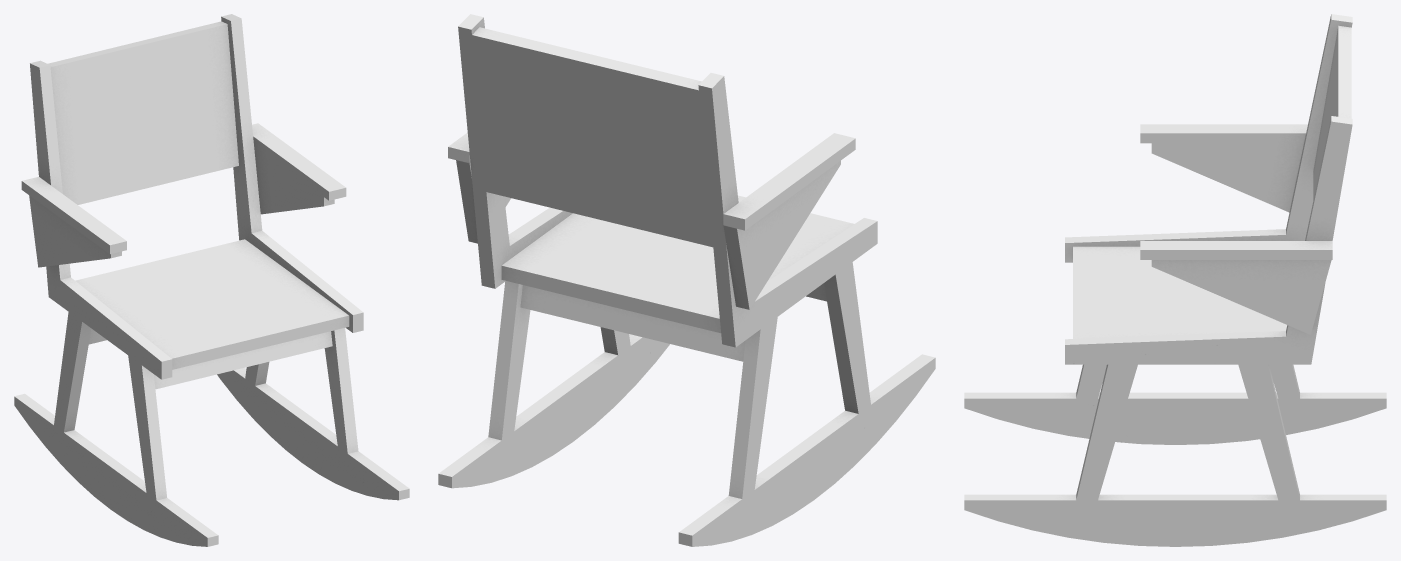
The model's file is chair.glb.
The picture shows the model from 3 angles, left to right: view 1: azimuth 30°, elevation 25°; view 2: azimuth 150°, elevation 25°; view 3: azimuth 270°, elevation 25°; orthographic projection. The views are drawn at different scales.
Visible parts, largest first — view 1: Formica.ROCKER; view 2: Formica.ROCKER; view 3: Formica.ROCKER.
Boxes of the visible parts, x1,y1,x2,y2 form: Formica.ROCKER: [14, 14, 409, 546]; Formica.ROCKER: [438, 14, 935, 546]; Formica.ROCKER: [964, 14, 1386, 546].
Size of the model in its own units: 55 by 86.68 by 78.
1 material, 1 textured.
